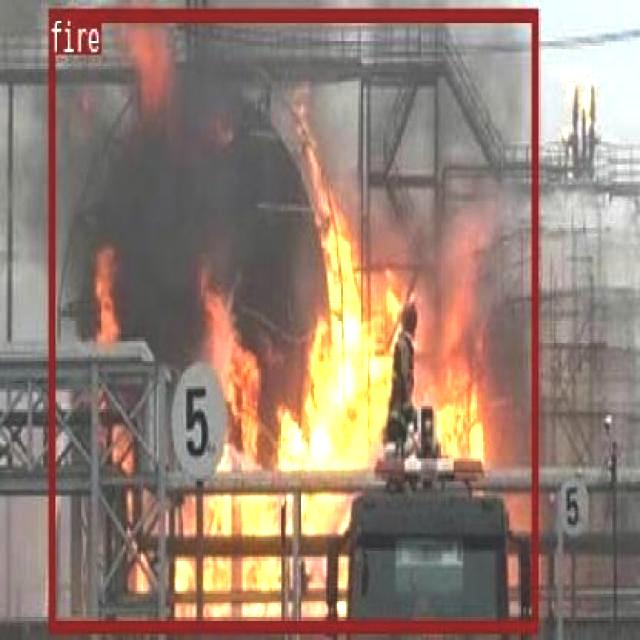fire: (48, 6, 537, 631)
